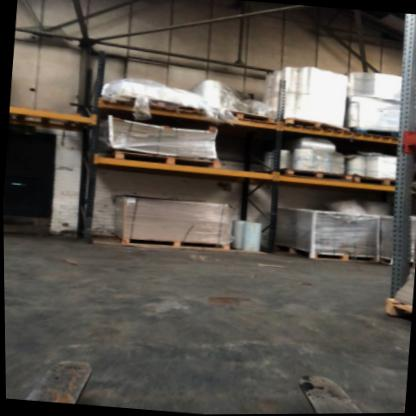vertical_damage: (82, 206, 100, 228)
